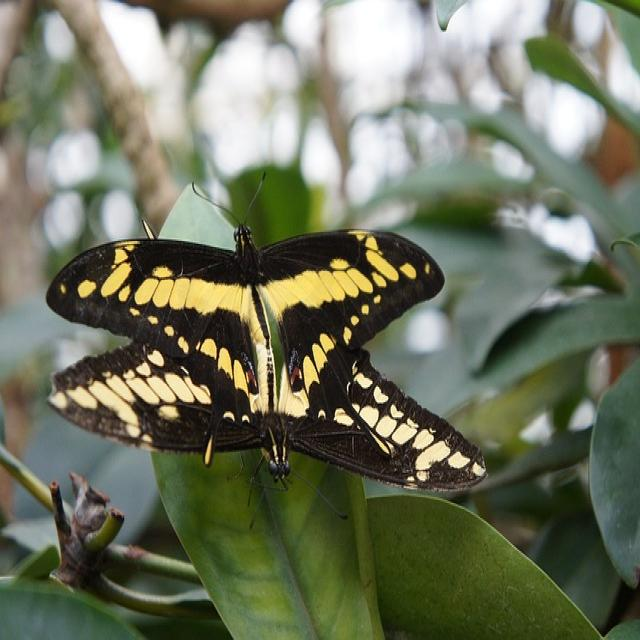butterfly: (44, 224, 488, 507)
